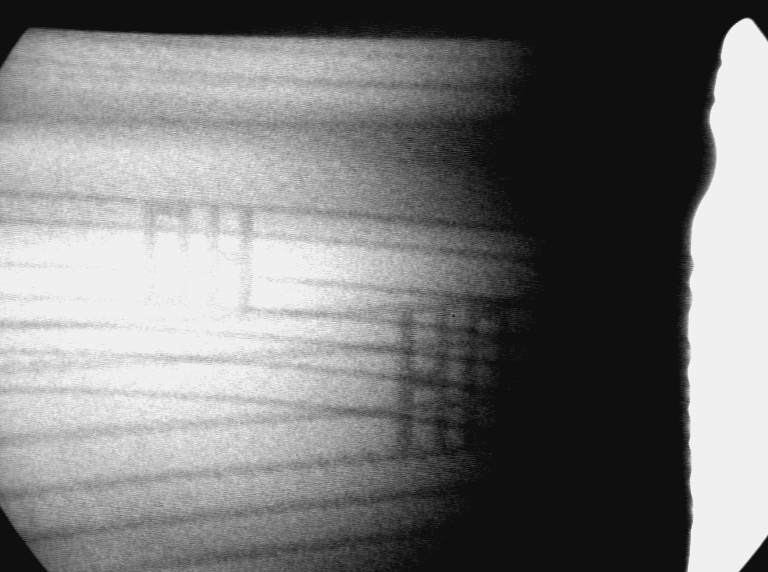defect: (393, 300, 518, 468)
